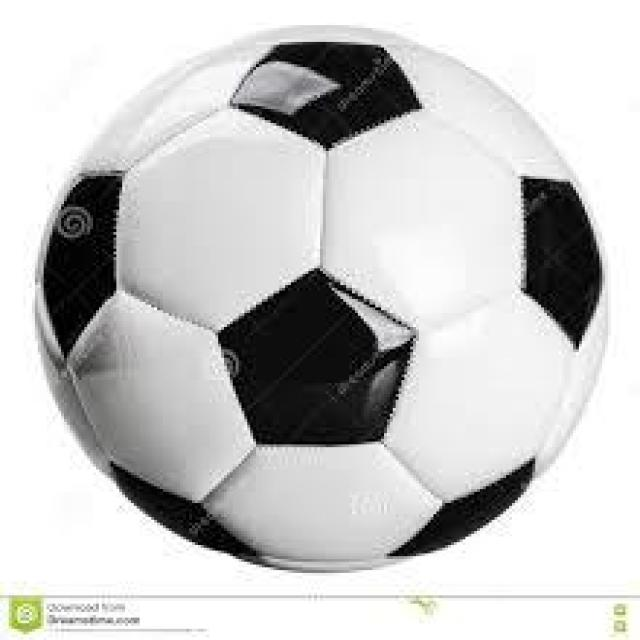Soccer Ball: (38, 0, 611, 573)
